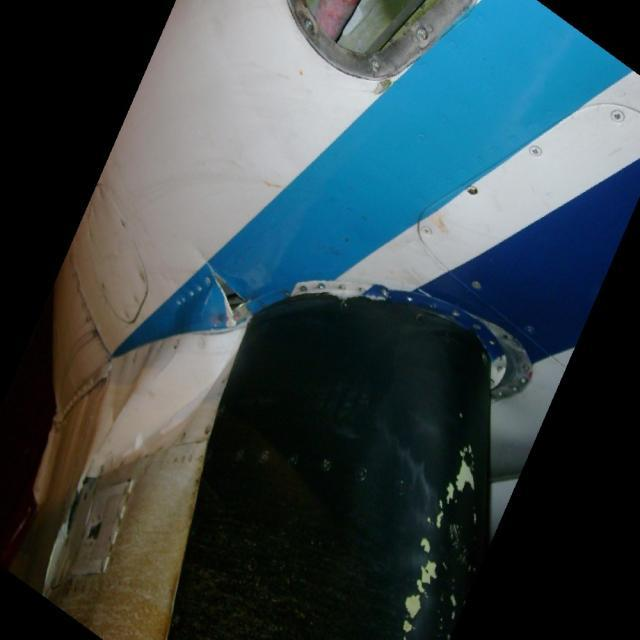crack: (208, 269, 255, 330)
